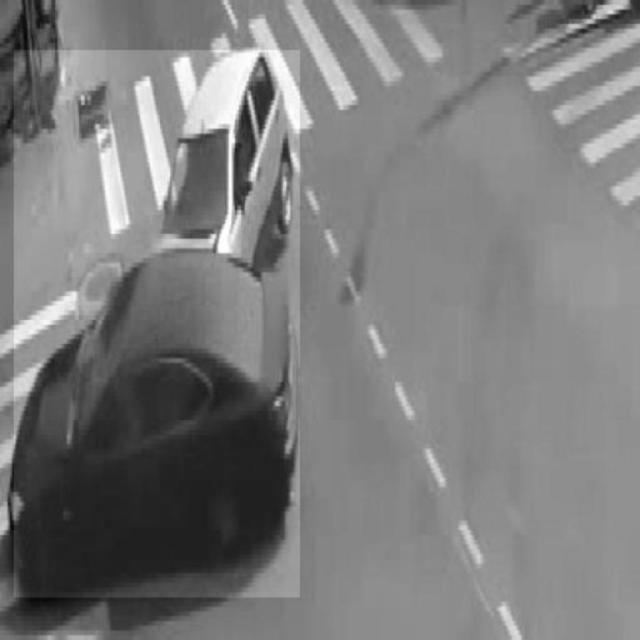accident: (14, 50, 300, 597)
